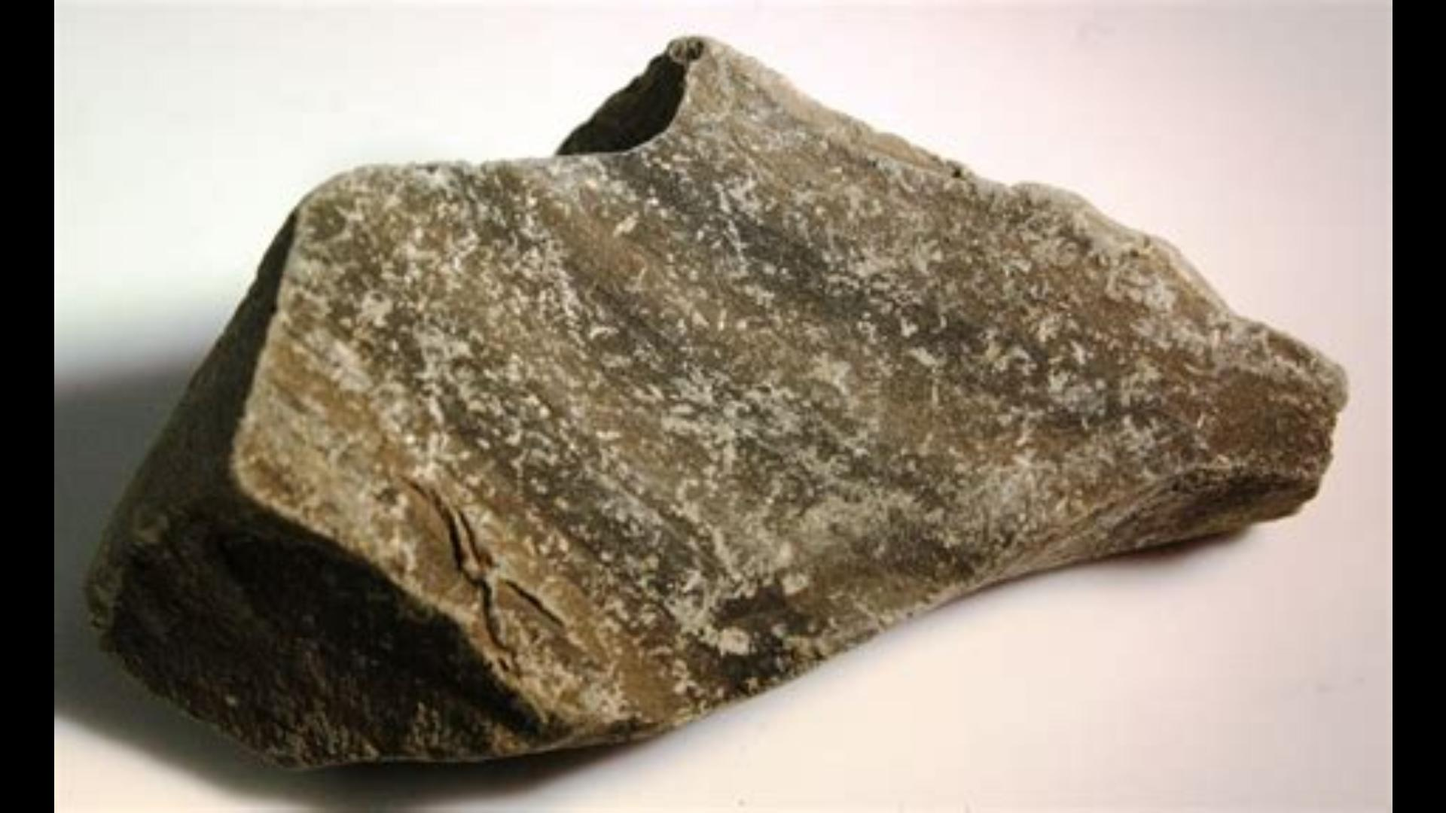rock: (87, 40, 1341, 762)
